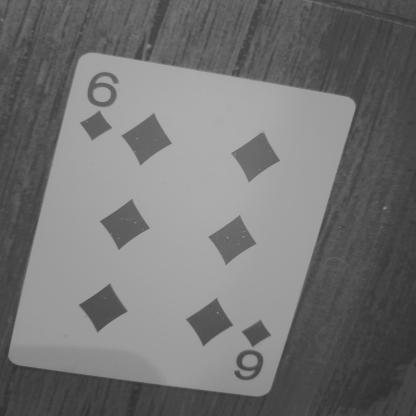6D: (222, 313, 304, 385), (75, 69, 121, 148)
